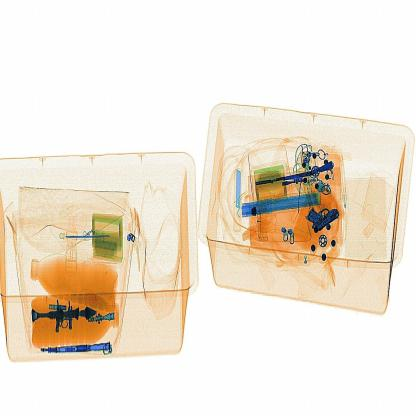pliers: (227, 162, 246, 236)
